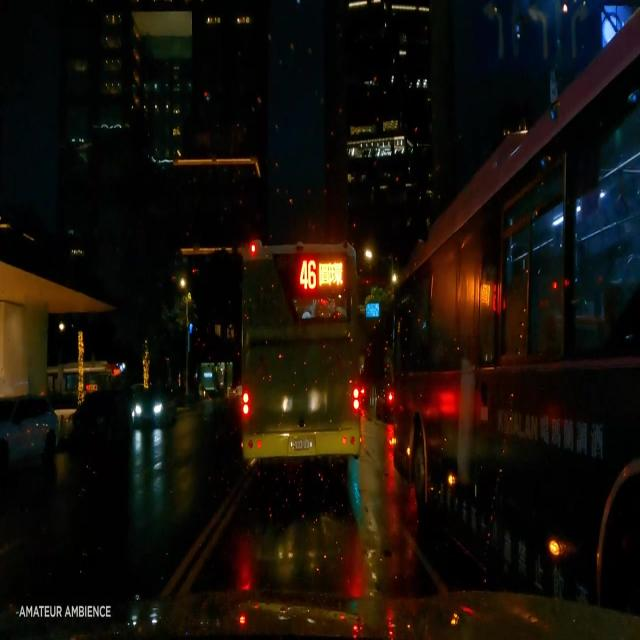Car: (0, 392, 57, 469), (132, 386, 179, 426)
